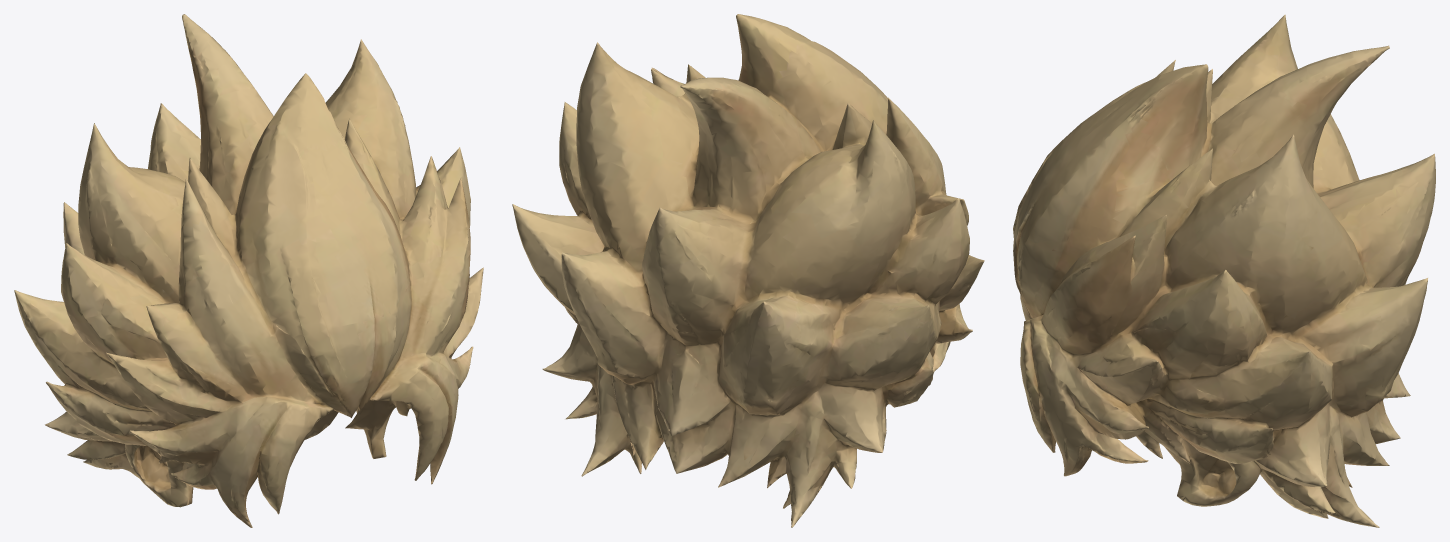
File: spiky_hair_1mb.glb
3 views of the same model, side by side, from view 1: azimuth 30°, elevation 25°; view 2: azimuth 150°, elevation 25°; view 3: azimuth 270°, elevation 25° (orthographic). The views are drawn at different scales.
Parts seen in each view (by area): view 1: spiky_hair; view 2: spiky_hair; view 3: spiky_hair.
Part boxes in pixels (left/top/right/bottom): spiky_hair: left=14, top=14, right=483, bottom=527; spiky_hair: left=512, top=14, right=984, bottom=527; spiky_hair: left=1013, top=14, right=1435, bottom=527.
Size of the model in its own units: 0.5179 by 0.5077 by 0.4452.
Materials: 1 (1 with a texture image).
